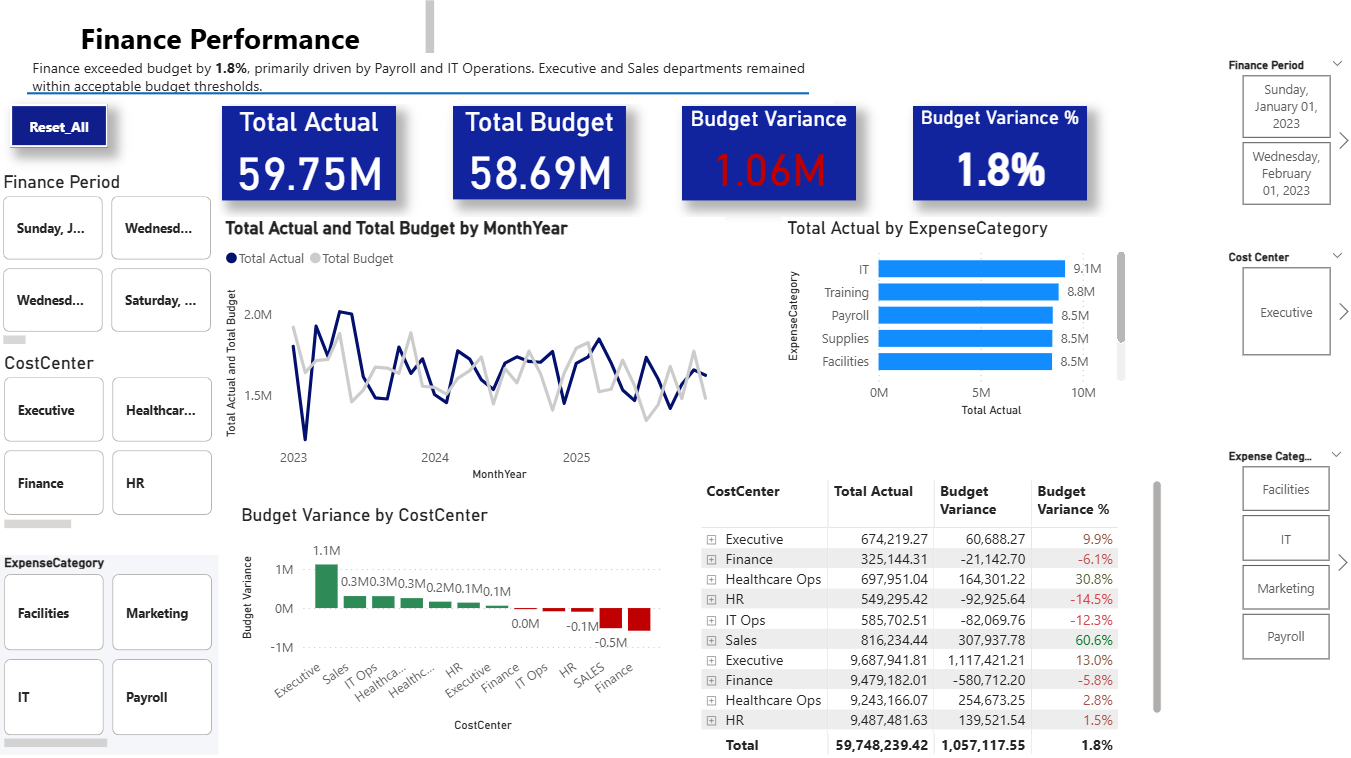

The page's visual inventory and layout, read from the dashboard file:
{"tool":"powerbi","page":{"name":"Finance Performance","canvas":[1280,720],"ordinal":2},"visuals":[{"type":"textbox","box":[0,0,415.5,65.4],"z":0},{"type":"card","title":"Total Actual","fields":{"Values":["_Measures.Total Actual"]},"box":[211.3,104.8,163.9,88.7],"z":1000},{"type":"card","title":"Total Budget","fields":{"Values":["_Measures.Total Budget"]},"box":[428.7,104.8,163,87.8],"z":2000},{"type":"card","title":"Budget Variance","fields":{"Values":["_Measures.Budget Variance"]},"box":[645.1,104.8,163.9,88.7],"z":3000},{"type":"card","title":"Budget Variance %","fields":{"Values":["_Measures.Budget Variance %"]},"box":[862.4,104.8,163.9,88.7],"z":4000},{"type":"advancedSlicerVisual","title":"Finance Period","fields":{"Values":["DimDate.MonthYear"]},"box":[0,165.8,207.4,170.3],"z":5000},{"type":"advancedSlicerVisual","fields":{"Values":["FactFinance.CostCenter"]},"box":[0.9,336.1,206.5,173.9],"z":6000},{"type":"advancedSlicerVisual","fields":{"Values":["FactFinance.ExpenseCategory"]},"box":[0.8,527.5,207,188],"z":7000},{"type":"lineChart","fields":{"Category":["DimDate.MonthYear"],"Y":["_Measures.Total Actual","_Measures.Total Budget"]},"box":[209.6,209.6,475.5,253.4],"z":8000},{"type":"clusteredColumnChart","fields":{"Category":["FactFinance.CostCenter"],"Y":["_Measures.Budget Variance"]},"box":[223.9,480,406.6,219.4],"z":9000},{"type":"clusteredBarChart","fields":{"Category":["FactFinance.ExpenseCategory"],"Y":["_Measures.Total Actual"]},"box":[738.8,209.6,328.7,192.5],"z":10000},{"type":"pivotTable","fields":{"Rows":["FactFinance.CostCenter","FactFinance.ExpenseCategory"],"Values":["_Measures.Total Actual","_Measures.Budget Variance","_Measures.Budget Variance %"]},"box":[658.2,452.2,444.2,267.8],"z":11000},{"type":"textbox","box":[26.9,54.6,760.3,48.4],"z":12000},{"type":"shape","box":[26.9,79.7,737,25.1],"z":13000},{"type":"slicer","fields":{"Values":["FactFinance.CostCenter"]},"box":[1147.2,235.5,132.5,111],"z":14000},{"type":"slicer","fields":{"Values":["DimDate.MonthYear"]},"box":[1147.2,54.6,132.5,149.6],"z":15000},{"type":"slicer","fields":{"Values":["FactFinance.ExpenseCategory"]},"box":[1147.2,422.7,131.6,209.6],"z":16000},{"type":"actionButton","box":[11.8,102.4,92.4,40.8],"z":17000}]}

Visuals, with their boxes in screenshot pixels (x1, y1, x2, y2), scaled from the page's 1280x720 canvas onto the 1351x758 screenshot:
textbox: 0, 0, 439, 69
"Total Actual" card: 223, 110, 396, 204
"Total Budget" card: 452, 110, 625, 203
"Budget Variance" card: 681, 110, 854, 204
"Budget Variance %" card: 910, 110, 1083, 204
"Finance Period" advancedSlicerVisual: 0, 175, 219, 354
advancedSlicerVisual - FactFinance.CostCenter: 1, 354, 219, 537
advancedSlicerVisual - FactFinance.ExpenseCategory: 1, 555, 219, 753
lineChart - DimDate.MonthYear x _Measures.Total Actual: 221, 221, 723, 487
clusteredColumnChart - FactFinance.CostCenter x _Measures.Budget Variance: 236, 505, 665, 736
clusteredBarChart - FactFinance.ExpenseCategory x _Measures.Total Actual: 780, 221, 1127, 423
pivotTable - FactFinance.CostCenter x FactFinance.ExpenseCategory: 695, 476, 1164, 757
textbox: 28, 57, 831, 108
shape: 28, 84, 806, 110
slicer - FactFinance.CostCenter: 1211, 248, 1350, 365
slicer - DimDate.MonthYear: 1211, 57, 1350, 215
slicer - FactFinance.ExpenseCategory: 1211, 445, 1350, 666
actionButton: 12, 108, 110, 151
